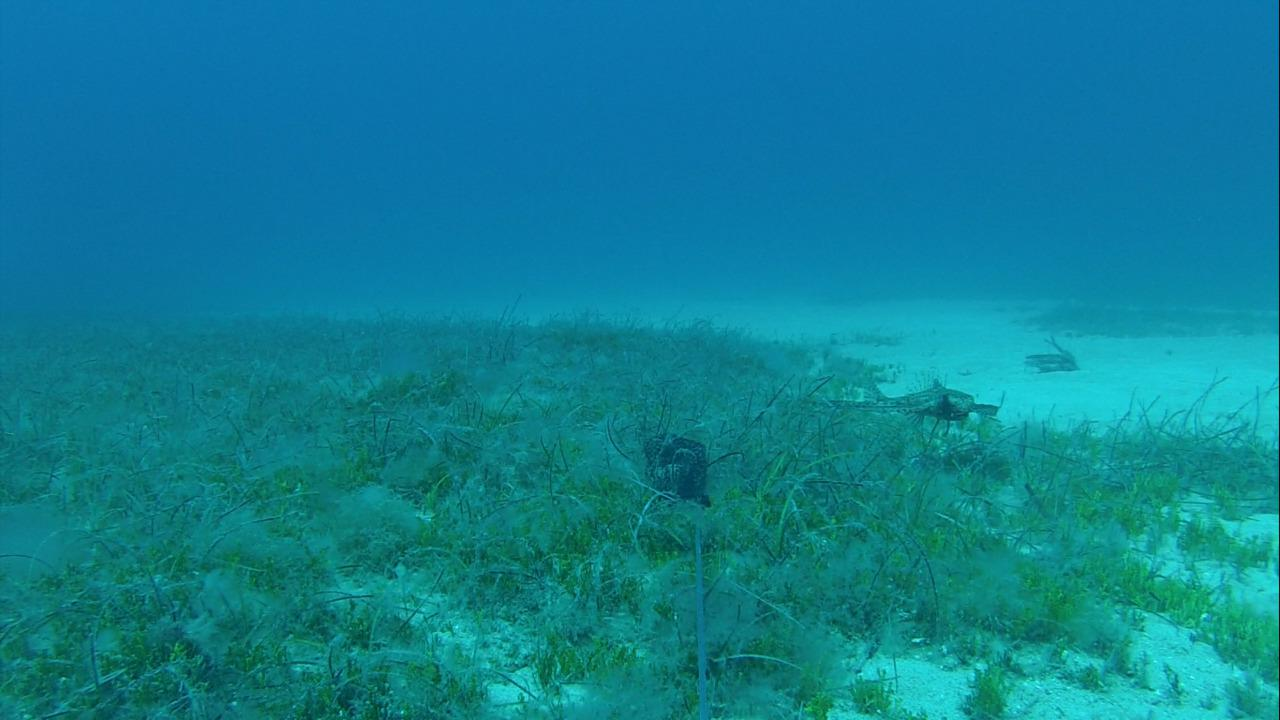dactylopterus: (850, 368, 1003, 441)
